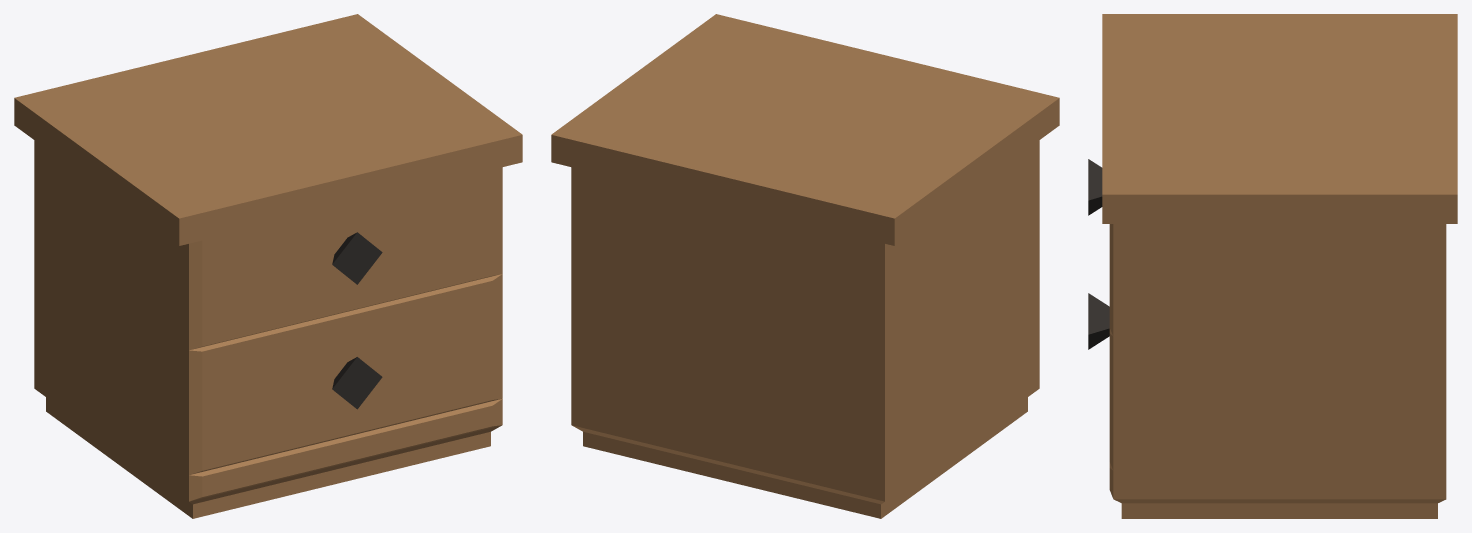
File: Drawer_3B.fbx
3 views of the same model, side by side, from view 1: azimuth 30°, elevation 25°; view 2: azimuth 150°, elevation 25°; view 3: azimuth 270°, elevation 25° (orthographic). The views are drawn at different scales.
Visible parts, largest first — view 1: polySurface2047; view 2: polySurface2047; view 3: polySurface2047.
Boxes of the visible parts, <box> form: polySurface2047: <box>14,14,522,518</box>; polySurface2047: <box>551,14,1059,518</box>; polySurface2047: <box>1088,14,1457,518</box>.
Bounding box in the file's own units: 0.962 × 0.836 × 0.8313.
Materials: 1 (1 with a texture image).
